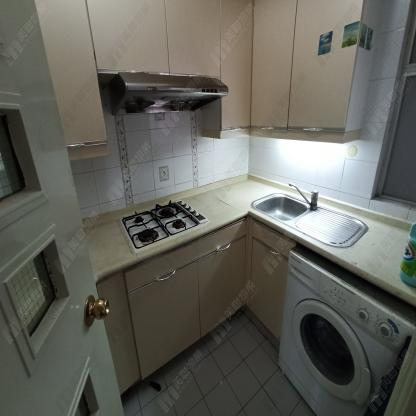Cupboard: (34, 0, 362, 145), (93, 219, 298, 397)
Exhaust Hood: (109, 71, 231, 121)
Sink: (254, 193, 365, 247)
Stove: (120, 198, 208, 254)
